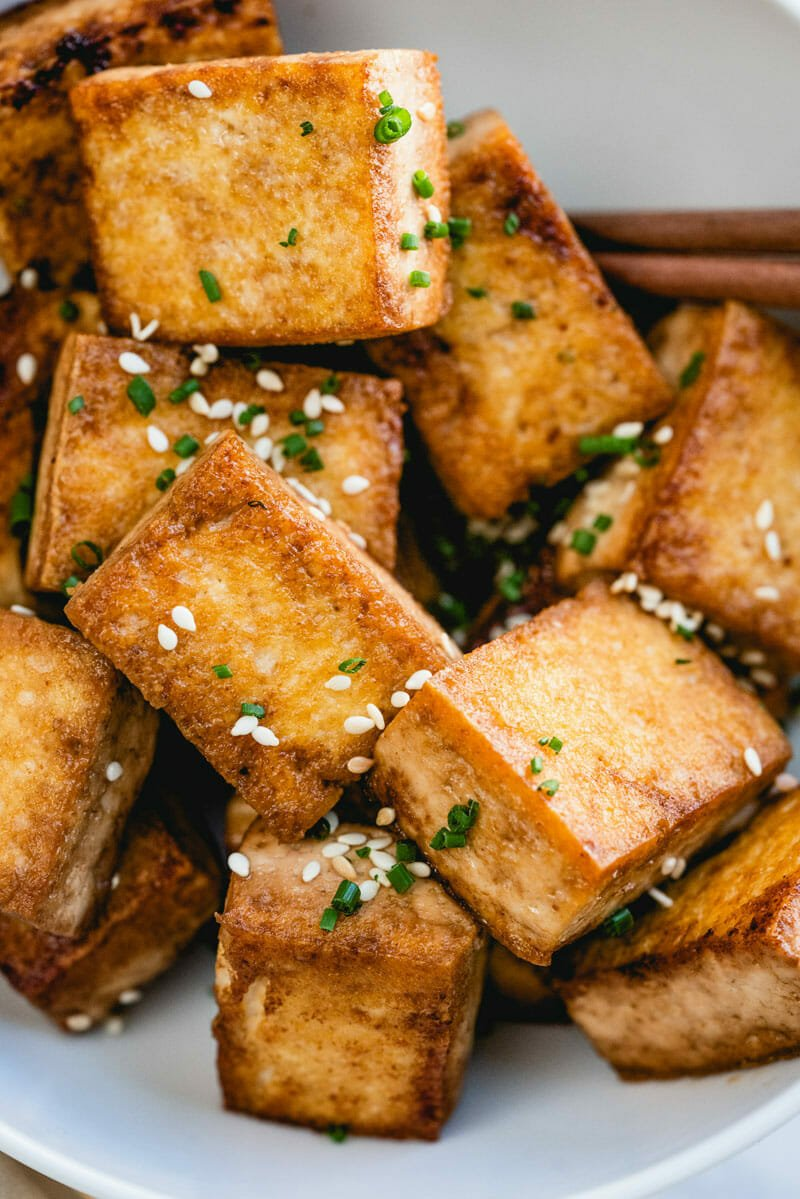Tahu: (48, 35, 472, 301), (387, 599, 708, 890), (556, 281, 800, 653), (166, 481, 479, 767), (158, 834, 503, 1093), (12, 368, 431, 557)
